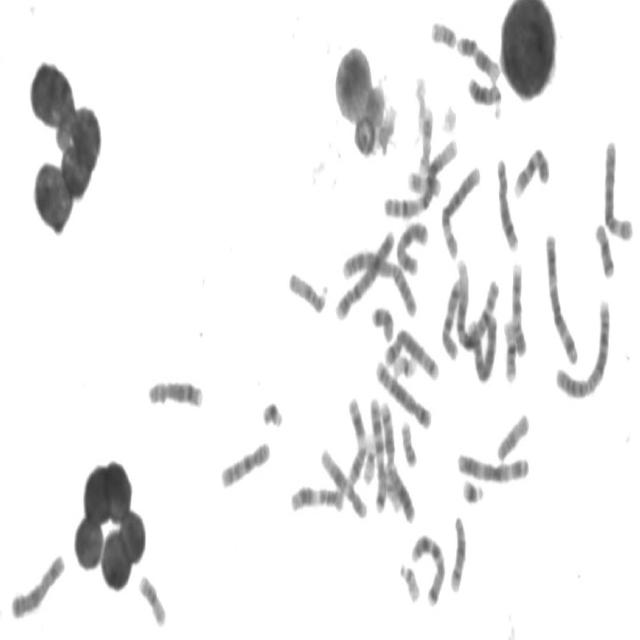A1: (381, 132, 459, 221), (453, 252, 499, 353)
A2: (552, 293, 612, 402), (339, 244, 418, 320)
A3: (542, 228, 580, 366), (454, 446, 531, 486)
B4: (333, 225, 395, 322), (466, 308, 498, 385)
B5: (373, 354, 432, 430), (381, 322, 440, 382)
C10: (218, 435, 272, 491), (438, 272, 464, 363)
C11: (344, 392, 367, 487), (287, 479, 346, 515)
C12: (317, 441, 368, 521), (454, 30, 502, 84)
C6: (438, 159, 482, 261), (601, 133, 635, 242)
C7: (408, 528, 447, 608), (367, 391, 387, 515)
C8: (494, 153, 520, 254), (145, 374, 204, 410)
C9: (511, 140, 552, 200), (509, 256, 528, 358)
D13: (382, 458, 417, 525), (466, 71, 503, 118)
D14: (447, 509, 468, 595), (380, 401, 398, 470)
D15: (286, 265, 328, 316), (494, 407, 530, 464)
E16: (136, 569, 167, 629), (501, 314, 518, 385)
E17: (415, 102, 434, 174), (406, 168, 443, 198)
E18: (592, 216, 616, 280), (368, 301, 394, 343)
F19: (381, 466, 404, 516), (389, 348, 418, 380)
F20: (398, 415, 418, 469), (428, 15, 458, 50)
G21: (259, 394, 285, 430), (459, 473, 485, 507)
G22: (397, 557, 421, 605), (361, 429, 376, 487)
X: (8, 547, 66, 622), (393, 216, 430, 276)
